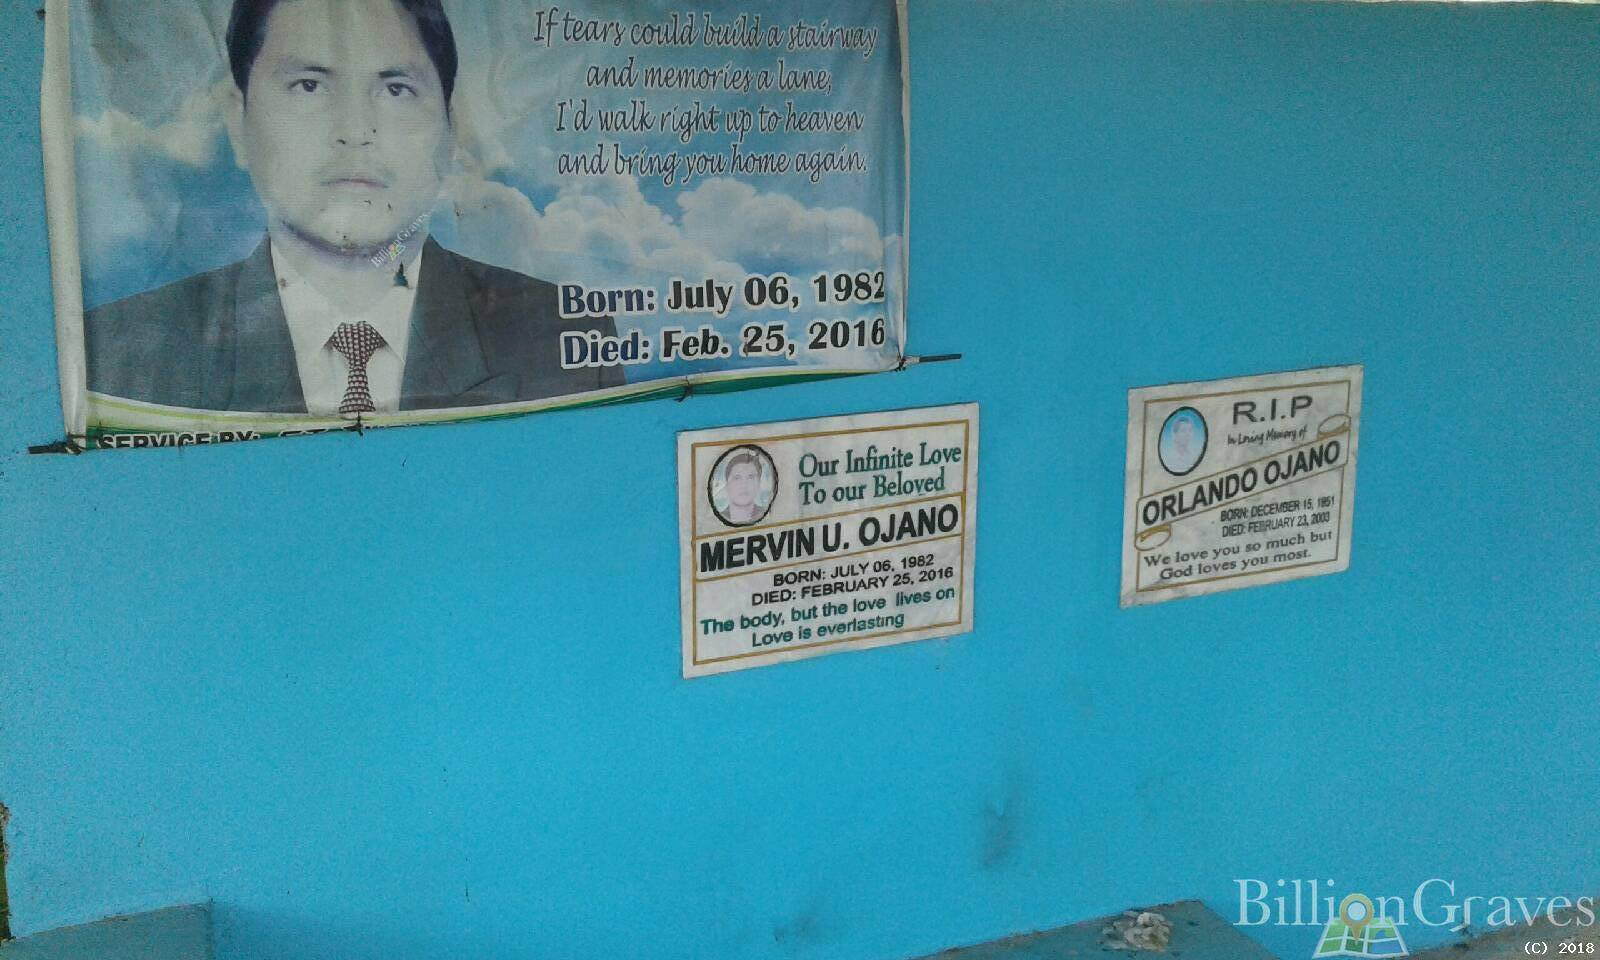plaque: (25, 2, 1425, 683)
